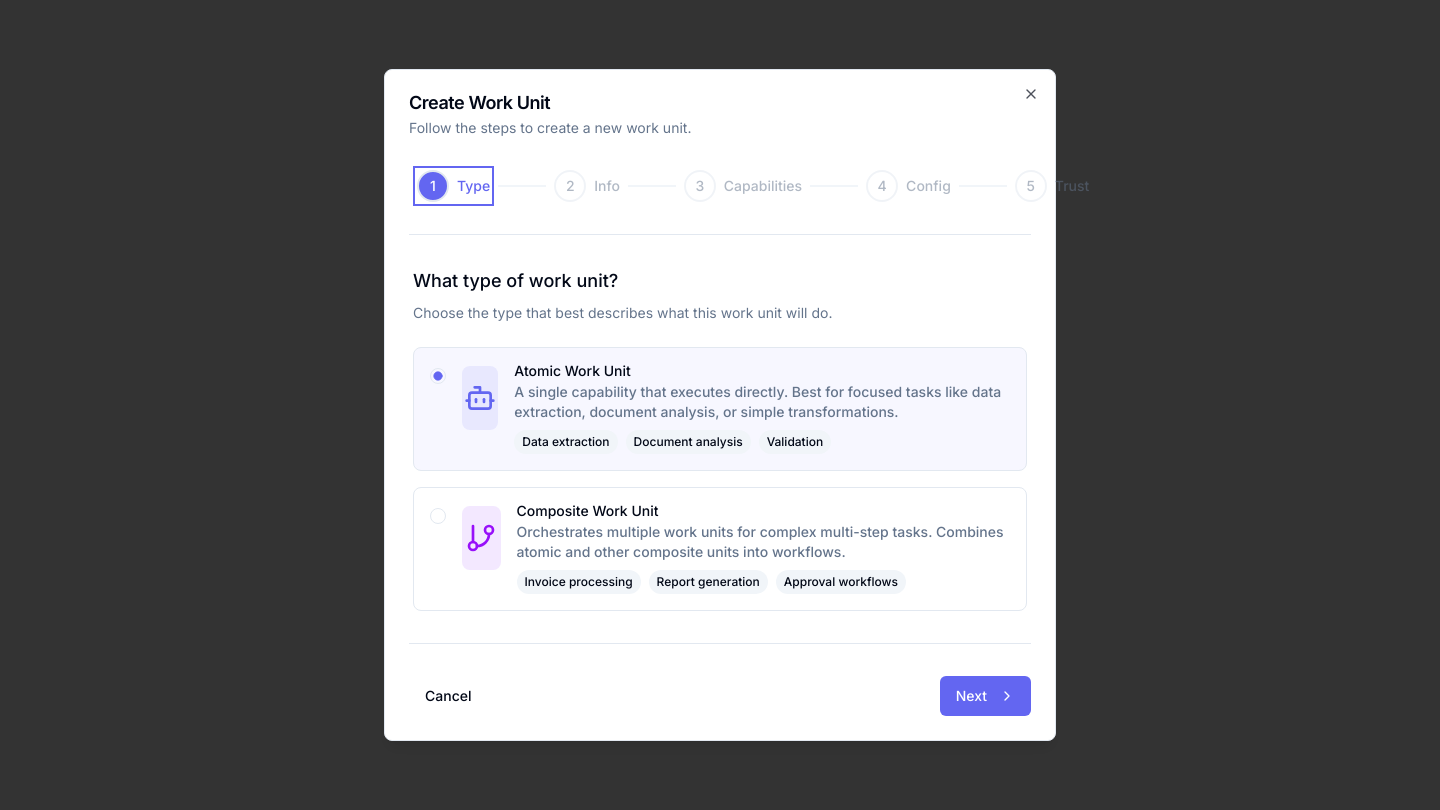
Test: WorkUnitCreateWizard › Step Navigation › should allow clicking on visited steps
Note: Navigate to step 2
Click the button with test id "wizard-next-btn": x=985, y=696 [940,676,1031,716]
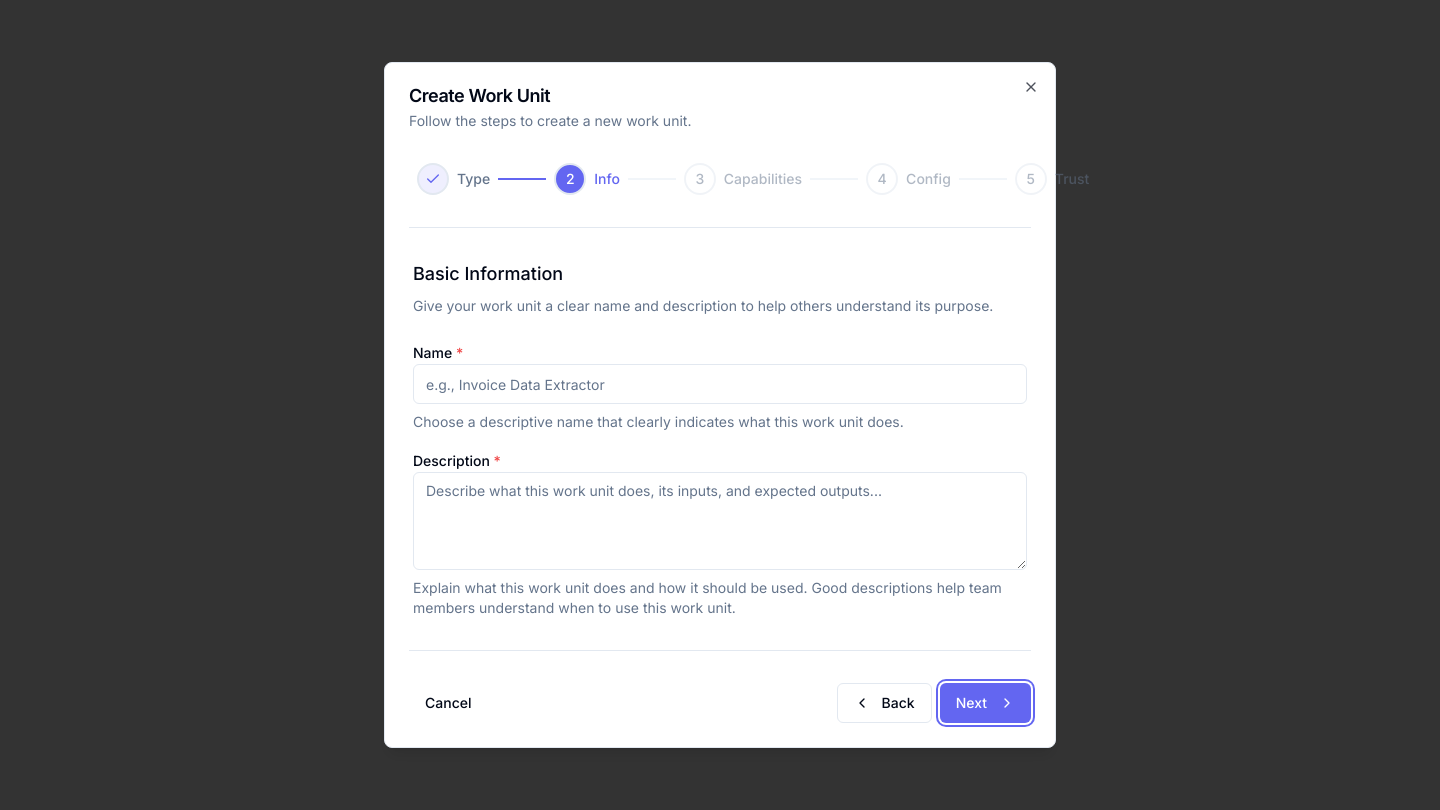
Result: the heading "Basic Information" is shown at [413,263,563,284]
Note: Click on step 1 indicator
Click the button with test id "wizard-step-type": x=454, y=179 [417,163,490,195]
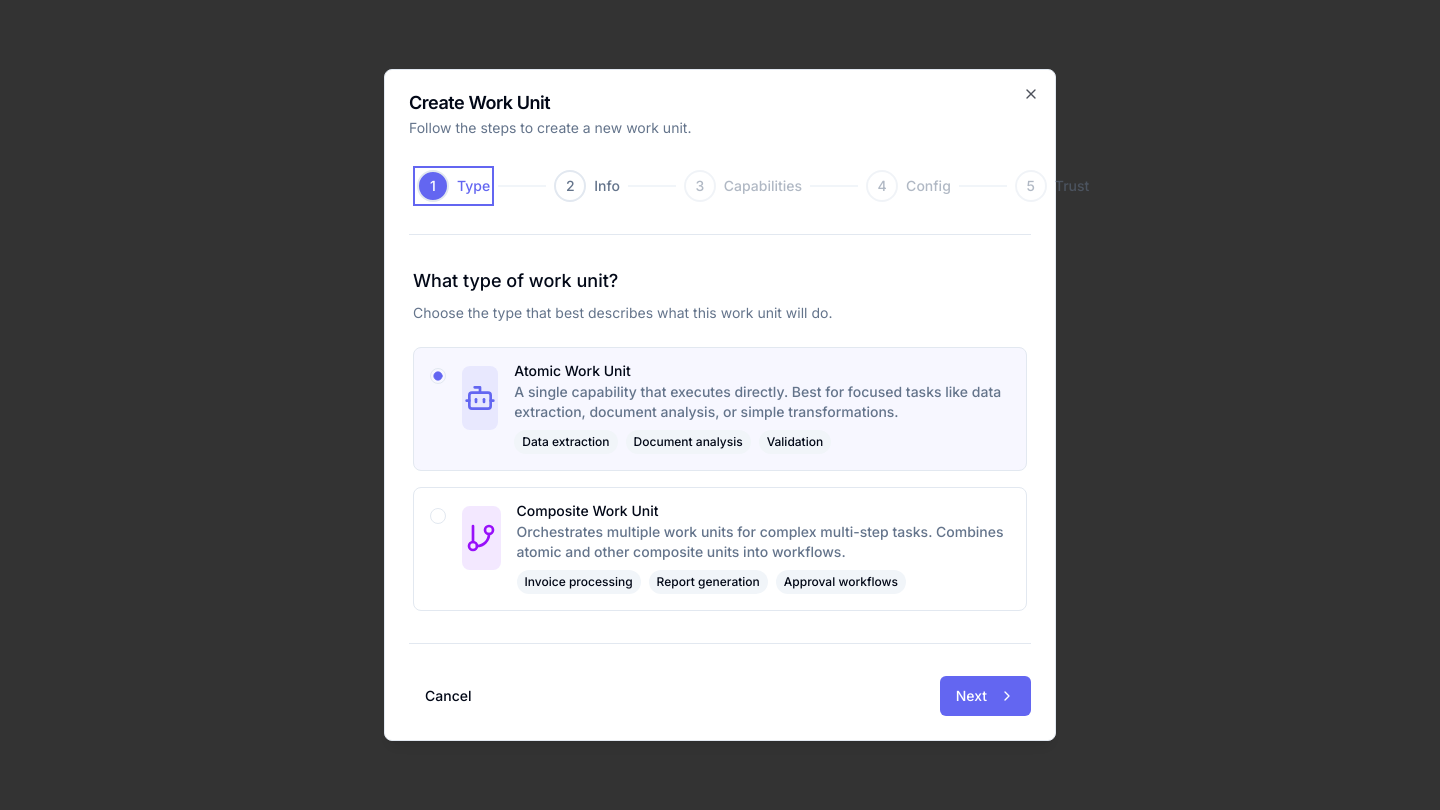
Result: the heading "What type of work unit?" is shown at [413,270,618,291]
